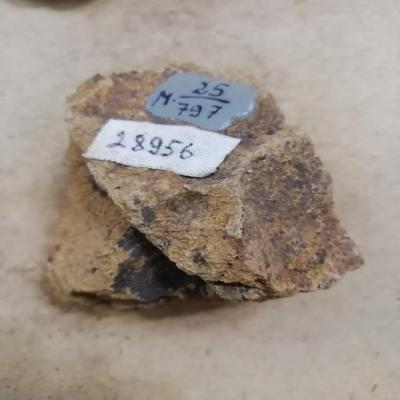mineralogy: (47, 64, 362, 304)
